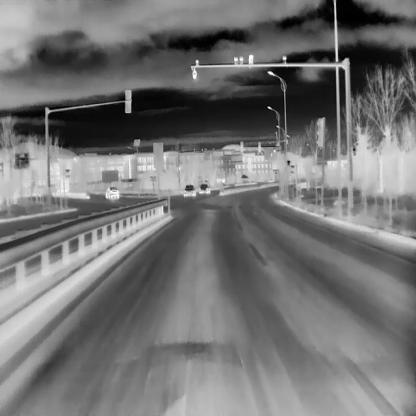car: (105, 186, 119, 198), (182, 184, 195, 196), (198, 183, 210, 193)
